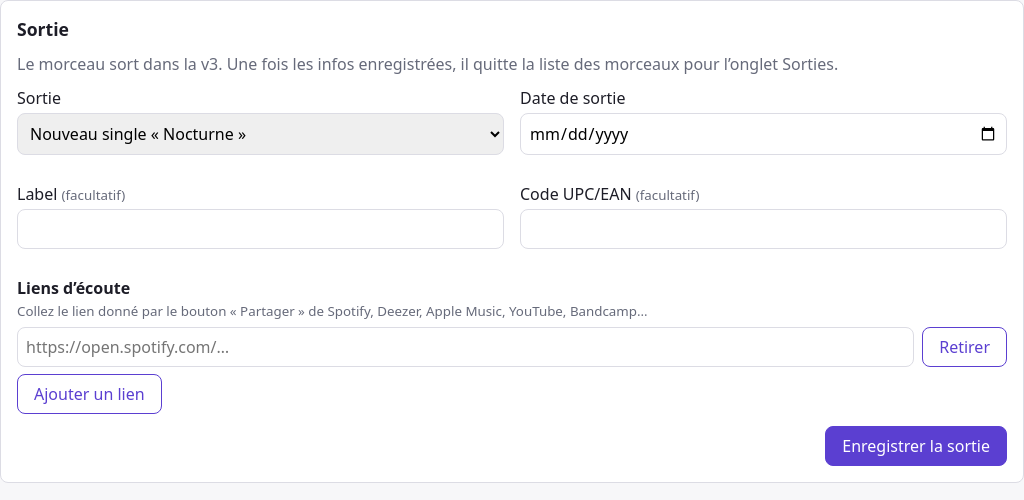
Test case: SongReleaseSection (#38) › choisir une sortie existante reprend ses infos de sortie
This screenshot has width=1024, height=500.
Select "Nuits blanches (EP)" in the dropdown with id "sr-release" at coordinates (260, 134), box 17,113 -> 504,155
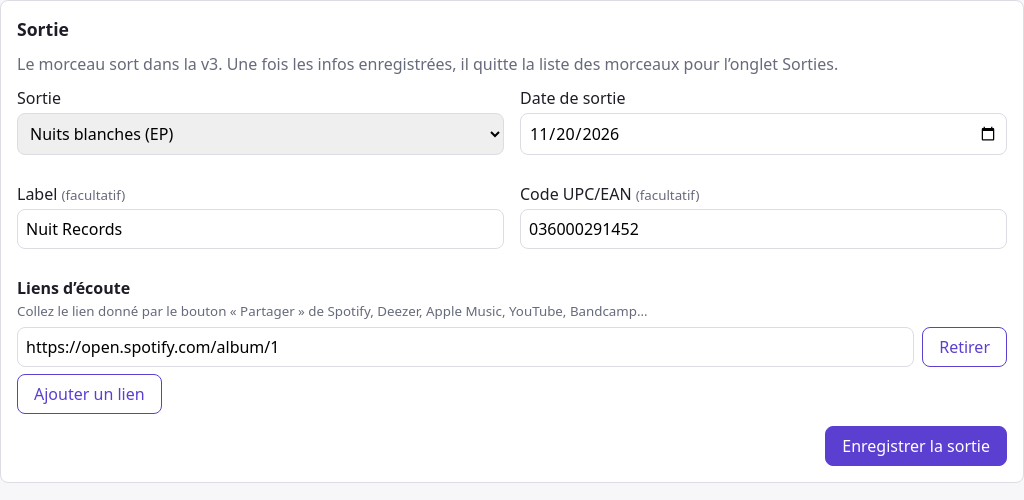
Expected: the field with id "sr-label" holds "Nuit Records", 17,209 -> 504,249
Expected: the field with id "sr-upc" holds "036000291452", 520,209 -> 1007,249
Expected: the field with id "sr-link-0" holds "https://open.spotify.com/album/1", 17,327 -> 914,367
